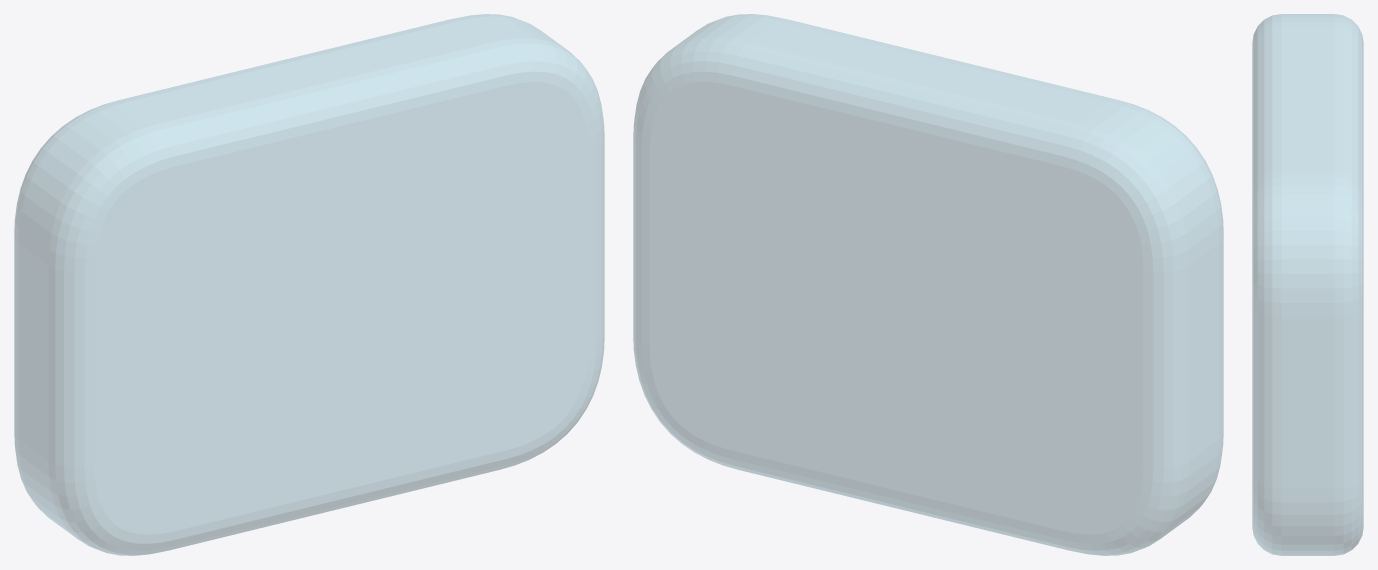
3 views of the same model, side by side, from view 1: azimuth 30°, elevation 25°; view 2: azimuth 150°, elevation 25°; view 3: azimuth 270°, elevation 25° (orthographic). The views are drawn at different scales.
Visible parts, largest first — view 1: panel; view 2: panel; view 3: panel.
Part boxes in pixels (x1,y1,x2,y2): panel: [14, 14, 604, 555]; panel: [633, 14, 1223, 555]; panel: [1252, 14, 1363, 555].
Size of the model in its own units: 1.9 by 1.4 by 0.38.
